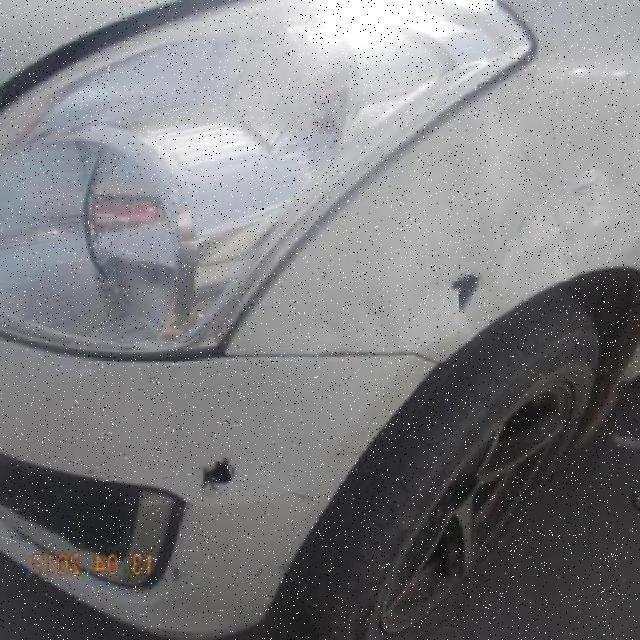damage: (229, 478, 321, 506), (194, 454, 241, 496), (444, 270, 484, 312), (249, 555, 293, 589), (166, 561, 190, 587)
